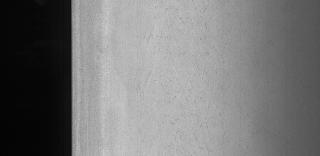silk spot: (148, 0, 224, 148)
